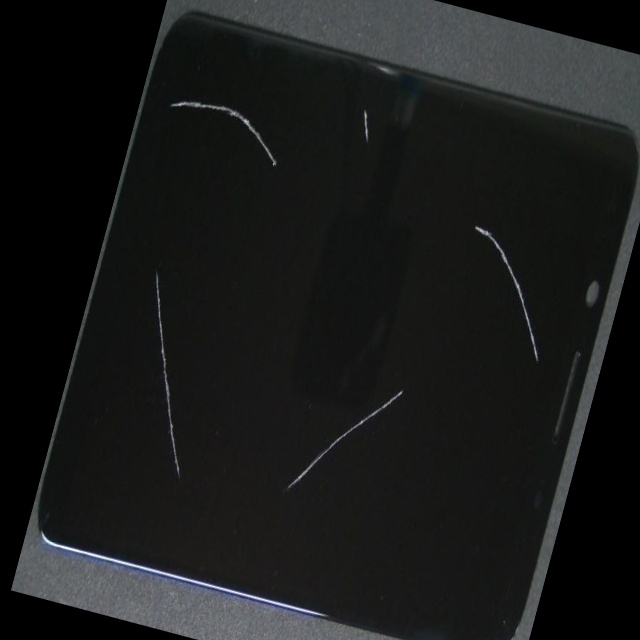scratch: (221, 140, 617, 590), (258, 69, 498, 231), (223, 93, 356, 243)
